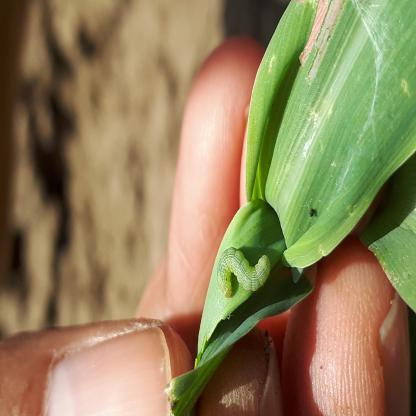armyworm: (66, 388, 97, 416)
